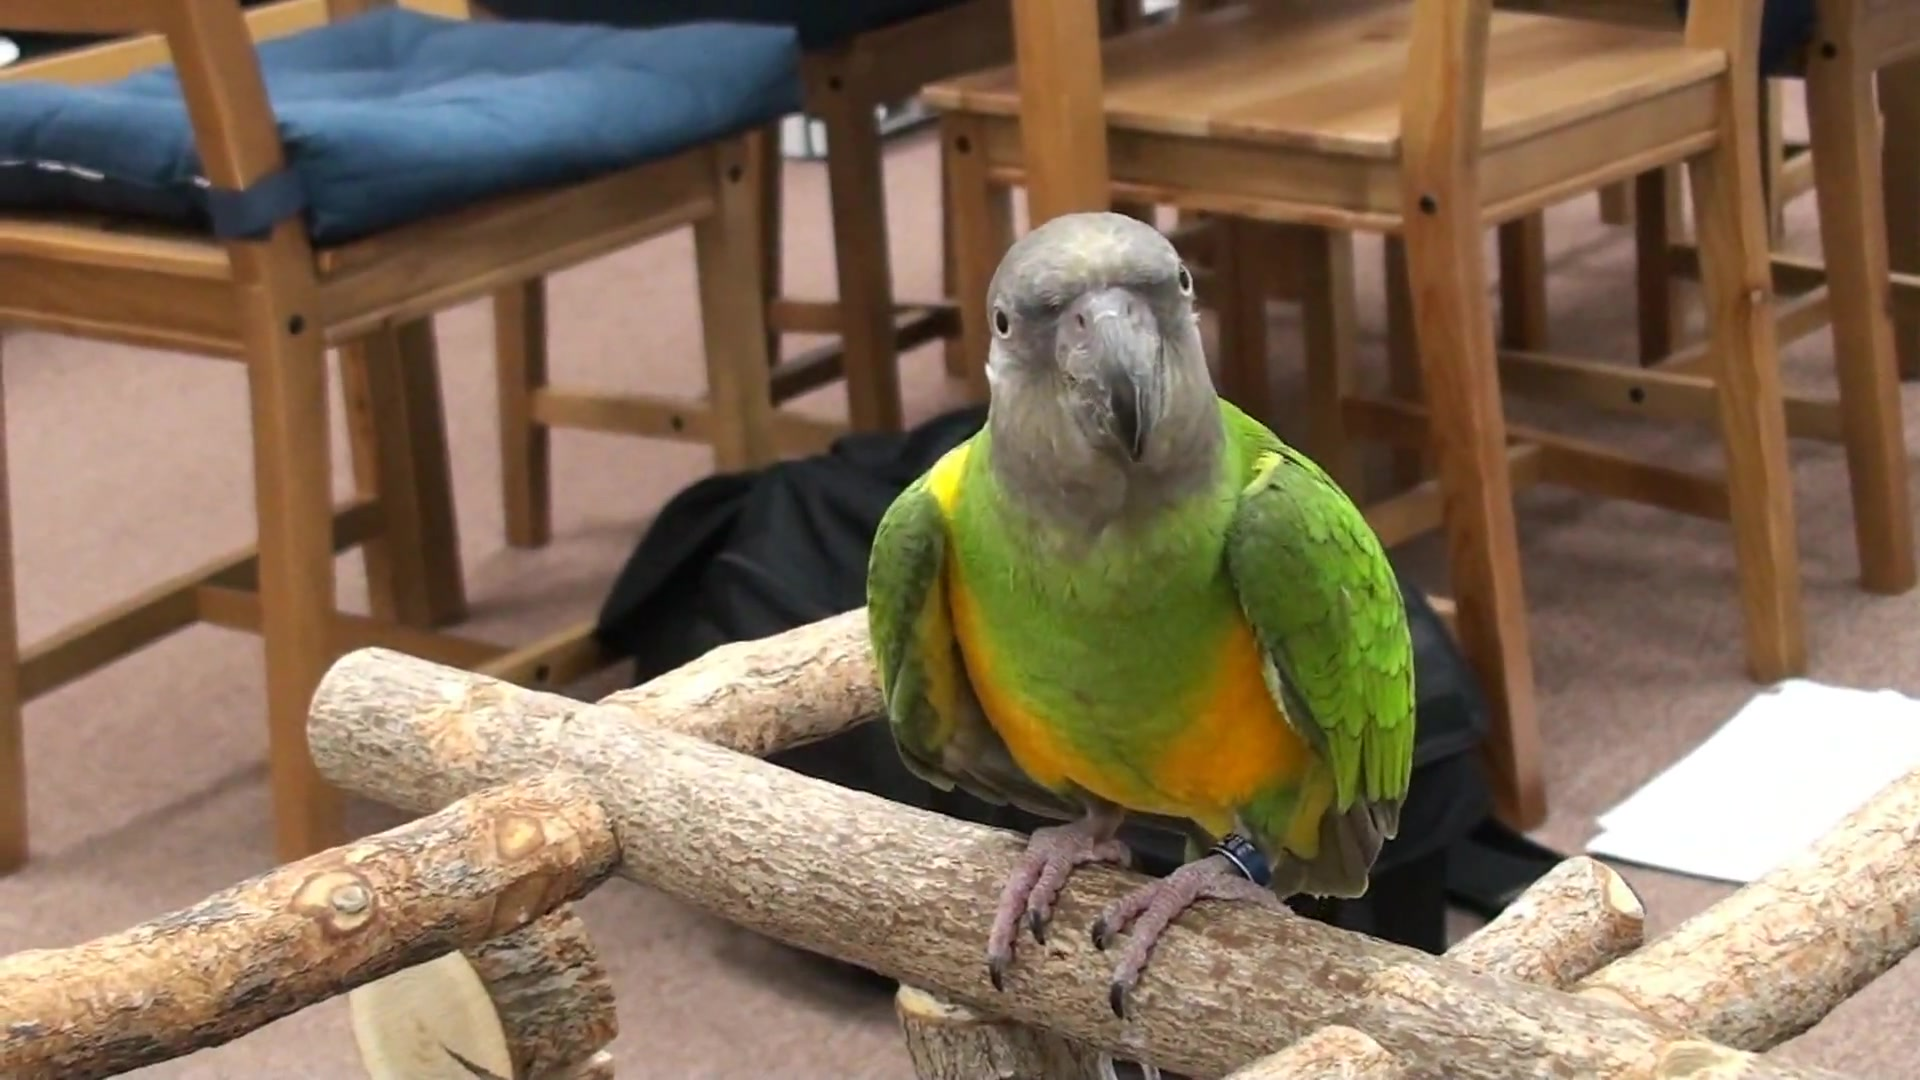bird: (869, 210, 1412, 1022)
